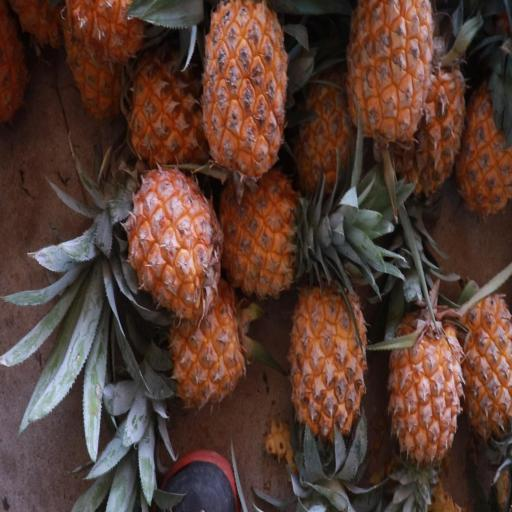Pineapple - v8 v1: (119, 159, 229, 324), (288, 272, 372, 484), (212, 162, 324, 310), (188, 1, 282, 177), (384, 300, 466, 484), (345, 0, 436, 152), (393, 40, 472, 214), (166, 266, 252, 417), (451, 264, 512, 444), (453, 60, 512, 226)
